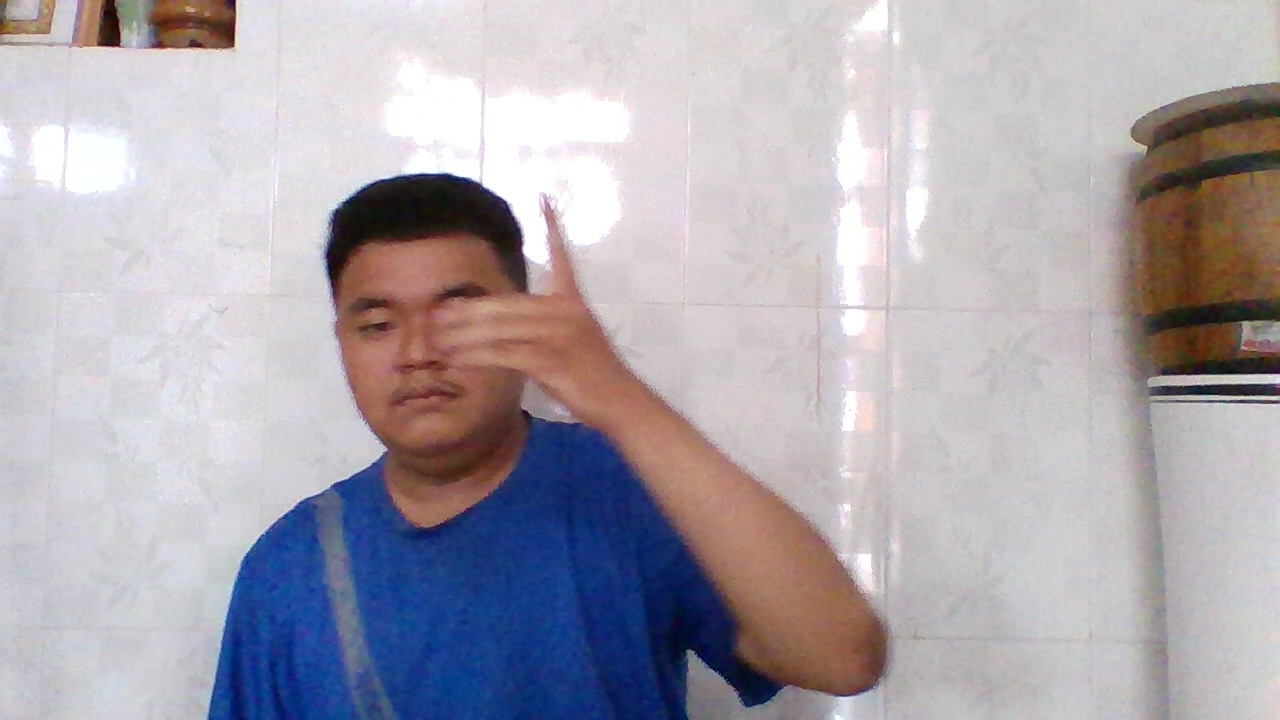D: (430, 193, 657, 429)
